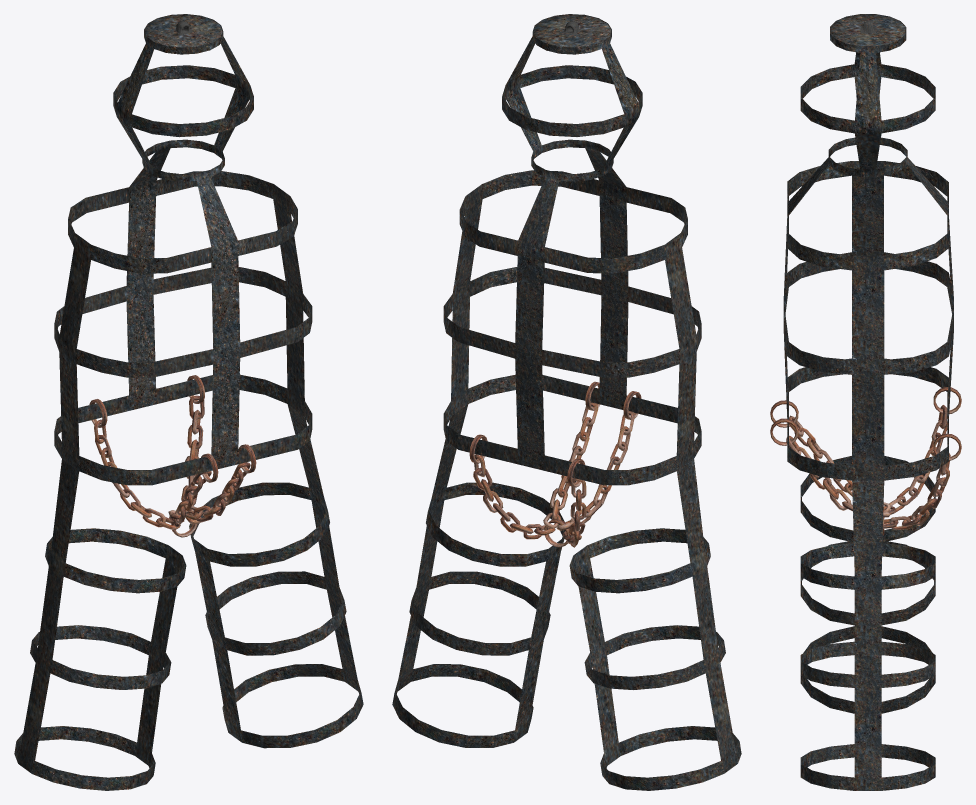
The model's file is Hanging Cages.fbx.
3 renders of one model, left to right at view 1: azimuth 30°, elevation 25°; view 2: azimuth 150°, elevation 25°; view 3: azimuth 270°, elevation 25°, orthographic. The views are drawn at different scales.
Visible parts, largest first — view 1: polySurface1951; view 2: polySurface1951; view 3: polySurface1951.
Part boxes in pixels (x1,y1,x2,y2): polySurface1951: (14, 14, 363, 790); polySurface1951: (392, 14, 741, 790); polySurface1951: (770, 14, 961, 790).
Bounding box in the file's own units: 1.65 × 3.5 × 0.8529.
Materials: 2 (2 with a texture image).
